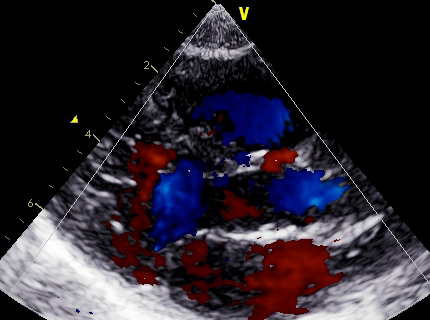AR: (212, 184, 281, 240)
